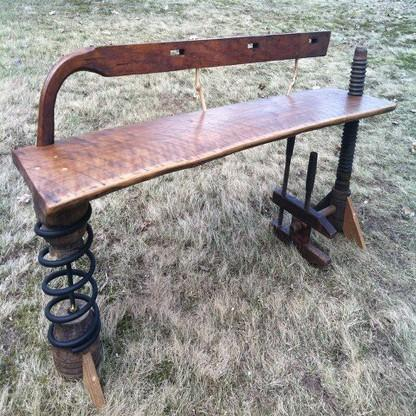obstacle: (16, 34, 393, 368)
